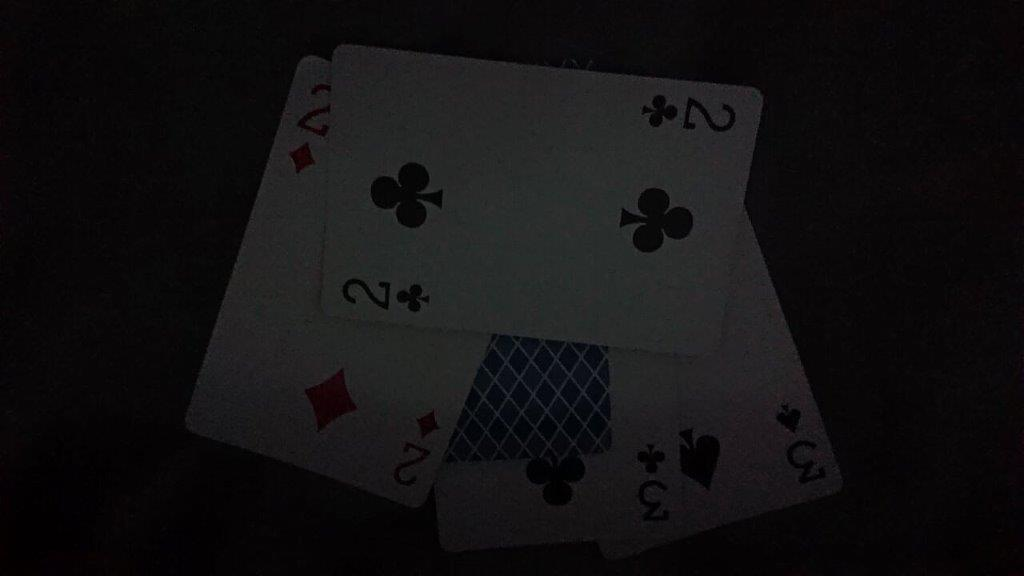2C: (319, 43, 767, 357)
2D: (181, 340, 494, 510)
3C: (431, 466, 688, 553)
3S: (687, 358, 845, 540)
BACK: (493, 350, 614, 465)
